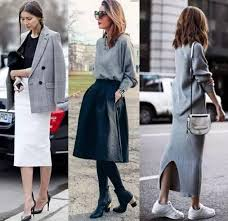C_skirt: (7, 78, 59, 172)
S_skirt: (71, 75, 133, 165)
